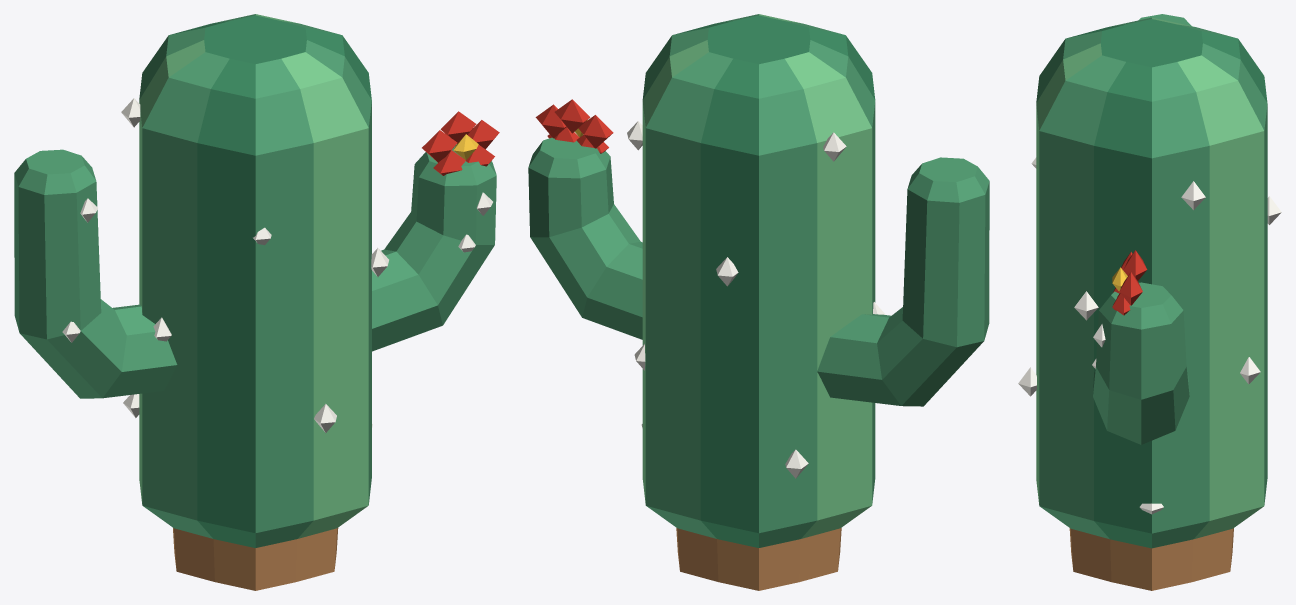
Rendered from 17-cactus.glb.
The picture shows the model from 3 angles, left to right: view 1: azimuth 30°, elevation 25°; view 2: azimuth 150°, elevation 25°; view 3: azimuth 270°, elevation 25°; orthographic projection.
Visible parts, largest first — view 1: 17-cactus_Body; view 2: 17-cactus_Body; view 3: 17-cactus_Body.
Boxes of the visible parts, x1,y1,x2,y2 form: 17-cactus_Body: (14, 14, 499, 590); 17-cactus_Body: (528, 14, 989, 590); 17-cactus_Body: (1018, 14, 1281, 590).
Bounding box in the file's own units: 0.5768 × 0.6069 × 0.2846.
1 material, 1 textured.
